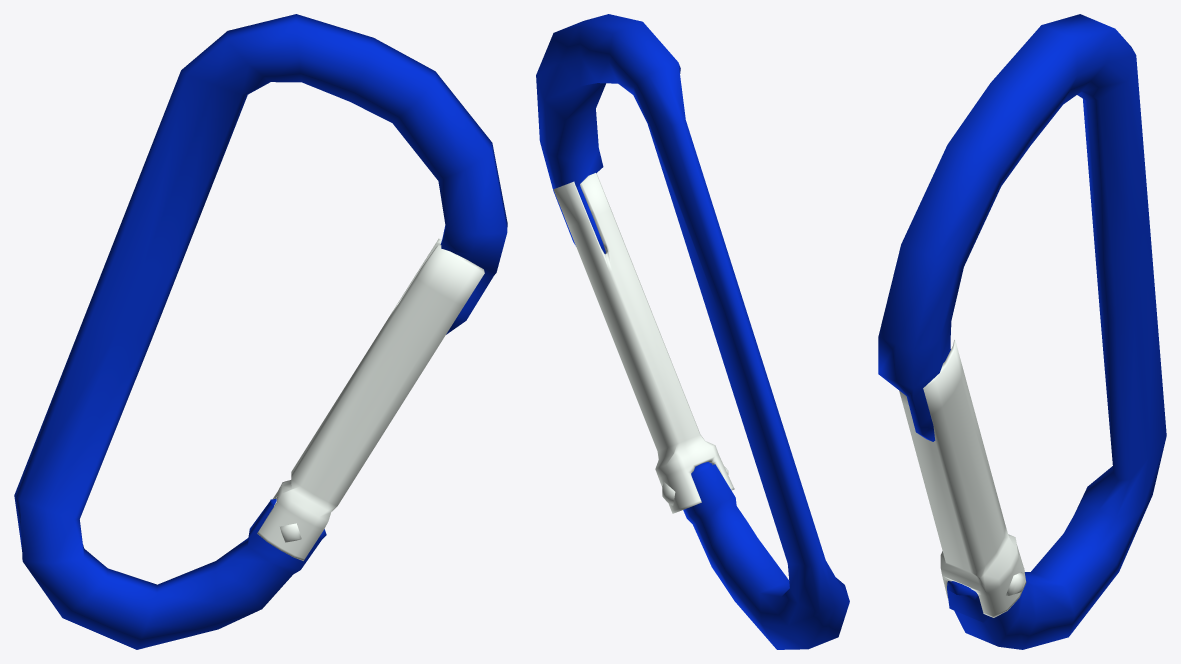
3 renders of one model, left to right at view 1: azimuth 30°, elevation 25°; view 2: azimuth 150°, elevation 25°; view 3: azimuth 270°, elevation 25°, orthographic. The views are drawn at different scales.
Parts seen in each view (by area): view 1: Carabiner.001; view 2: Carabiner.001; view 3: Carabiner.001.
Boxes of the visible parts, box(x1,y1,x2,y2) form: Carabiner.001: box(14, 14, 507, 649); Carabiner.001: box(536, 14, 849, 649); Carabiner.001: box(878, 14, 1166, 649).
Bounding box in the file's own units: 0.8684 × 1.23 × 0.4598.
